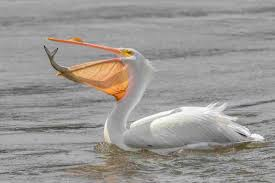pelican: (47, 36, 266, 151)
